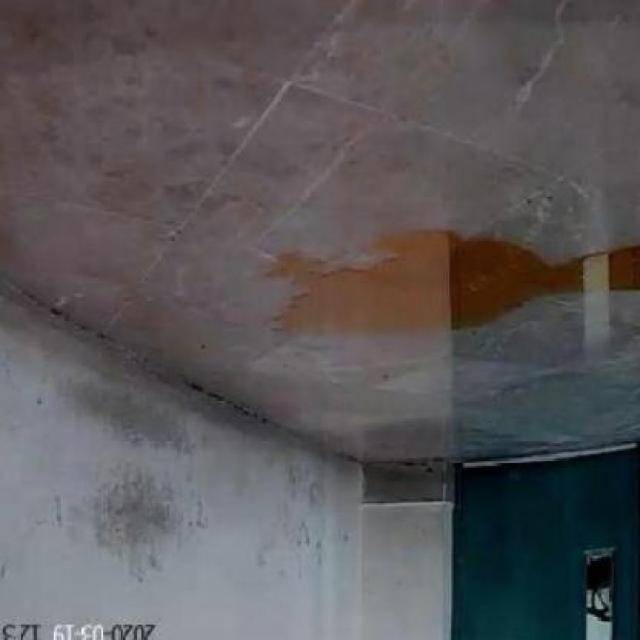spillage: (272, 230, 582, 331), (609, 248, 640, 290)
